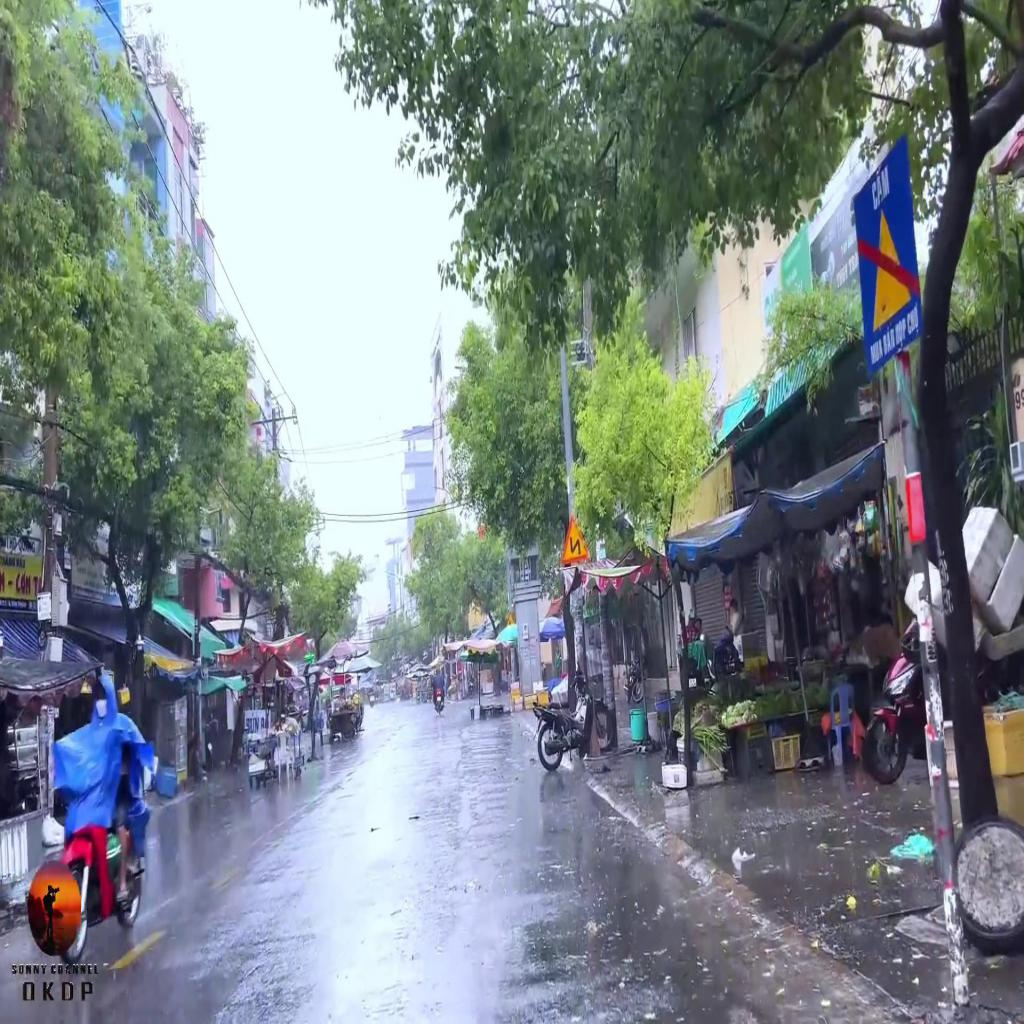cho_ngoat_nguy_hiem_lien_tiep: (561, 514, 589, 563)
